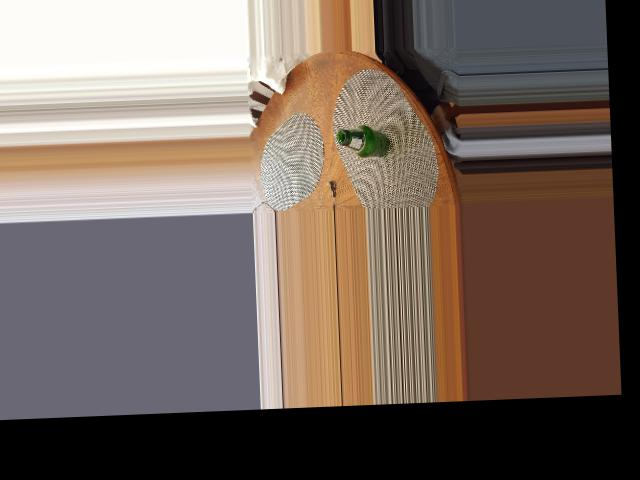beer: (337, 123, 390, 157)
